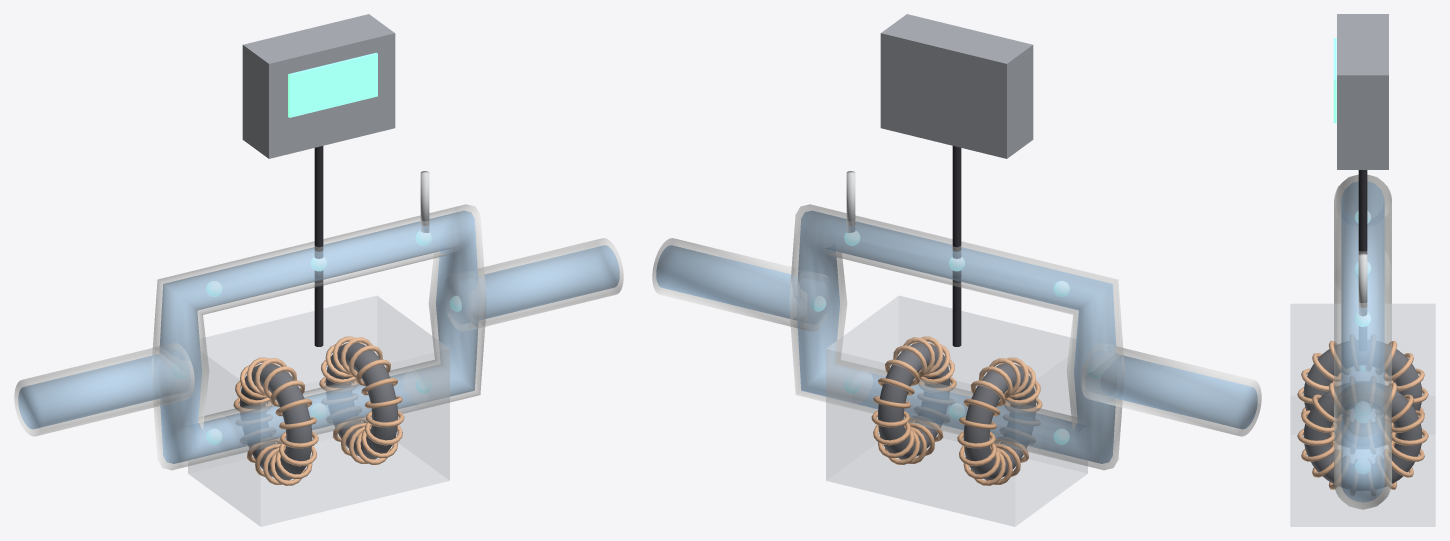
Rendered from toroid.glb.
3 renders of one model, left to right at view 1: azimuth 30°, elevation 25°; view 2: azimuth 150°, elevation 25°; view 3: azimuth 270°, elevation 25°, orthographic.
Parts seen in each view (by area): view 1: 线圈护套, 回路配管, 液体环, 变送器, 入口配管, 出口配管, 入口配管_液, 出口配管_液, 变送器_屏, 励磁线圈（初级）_芯, 检测线圈（次级）_芯, 电缆; view 2: 线圈护套, 回路配管, 液体环, 变送器, 入口配管, 出口配管, 入口配管_液, 出口配管_液, 励磁线圈（初级）_芯, 检测线圈（次级）_芯, 电缆; view 3: 线圈护套, 回路配管, 液体环, 变送器, 出口配管, 出口配管_液, 检测线圈（次级）_芯, 励磁线圈（初级）_芯, 电缆, 入口配管, 测温元件, 变送器_屏 (+14 smaller).
Boxes of the visible parts, x1,y1,x2,y2 form: 线圈护套: [188, 296, 449, 526]; 回路配管: [151, 204, 486, 470]; 液体环: [159, 210, 478, 463]; 变送器: [242, 14, 395, 158]; 入口配管: [14, 343, 194, 436]; 出口配管: [447, 238, 623, 331]; 入口配管_液: [18, 354, 190, 429]; 出口配管_液: [469, 245, 619, 320]; 变送器_屏: [288, 52, 377, 117]; 励磁线圈（初级）_芯: [239, 363, 312, 479]; 检测线圈（次级）_芯: [325, 342, 398, 459]; 电缆: [314, 146, 323, 346]; 线圈护套: [826, 296, 1087, 526]; 回路配管: [789, 204, 1124, 470]; 液体环: [797, 210, 1116, 463]; 变送器: [880, 14, 1033, 158]; 入口配管: [1081, 343, 1261, 436]; 出口配管: [652, 238, 828, 331]; 入口配管_液: [1085, 354, 1257, 429]; 出口配管_液: [656, 245, 806, 320]; 励磁线圈（初级）_芯: [963, 363, 1036, 479]; 检测线圈（次级）_芯: [877, 342, 950, 459]; 电缆: [952, 146, 961, 346]; 线圈护套: [1290, 304, 1435, 526]; 回路配管: [1334, 175, 1391, 509]; 液体环: [1341, 181, 1384, 404]; 变送器: [1337, 14, 1388, 169]; 出口配管: [1334, 383, 1391, 508]; 出口配管_液: [1341, 398, 1384, 502]; 检测线圈（次级）_芯: [1303, 383, 1422, 486]; 励磁线圈（初级）_芯: [1303, 343, 1422, 444]; 电缆: [1358, 170, 1367, 254]; 入口配管: [1334, 175, 1391, 216]; 测温元件: [1358, 253, 1367, 315]; 变送器_屏: [1333, 38, 1336, 123].
Bounding box in the file's own units: 2.3 × 1.66 × 0.5.
